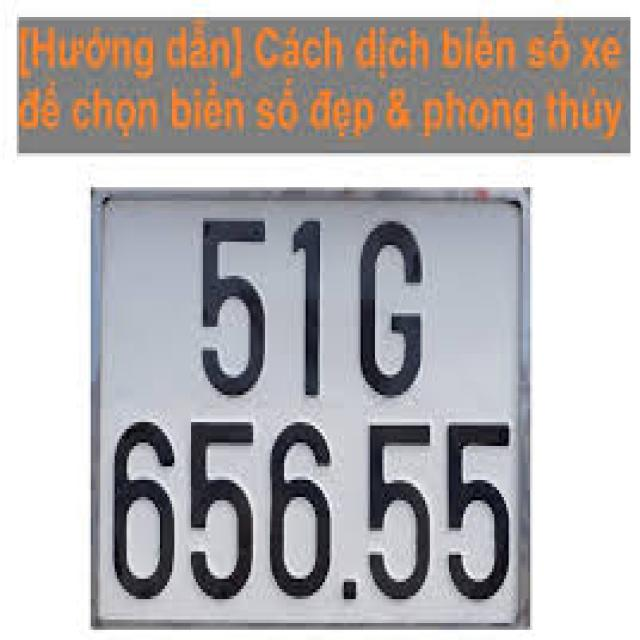a: (112, 185, 554, 640)
bien so: (66, 193, 531, 640)
